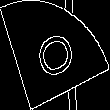O_W: (30, 26, 80, 84)
